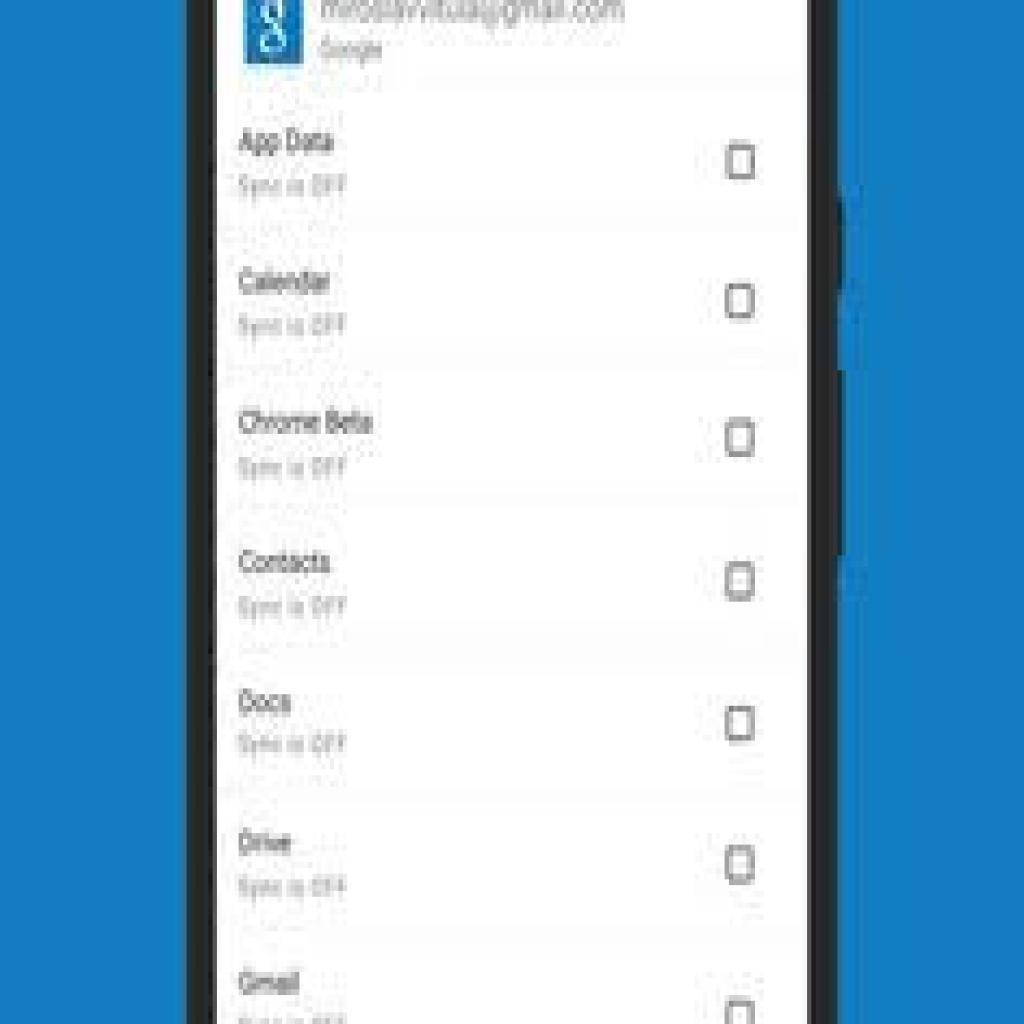checkbox: (723, 282, 759, 321), (724, 417, 758, 457), (725, 705, 758, 744), (726, 563, 758, 603), (724, 847, 757, 885), (726, 141, 757, 181), (724, 997, 757, 1024)
label: (232, 404, 388, 443), (237, 542, 346, 587), (231, 262, 339, 302), (237, 125, 342, 162), (234, 824, 301, 865), (237, 962, 304, 1003), (234, 688, 300, 721)
